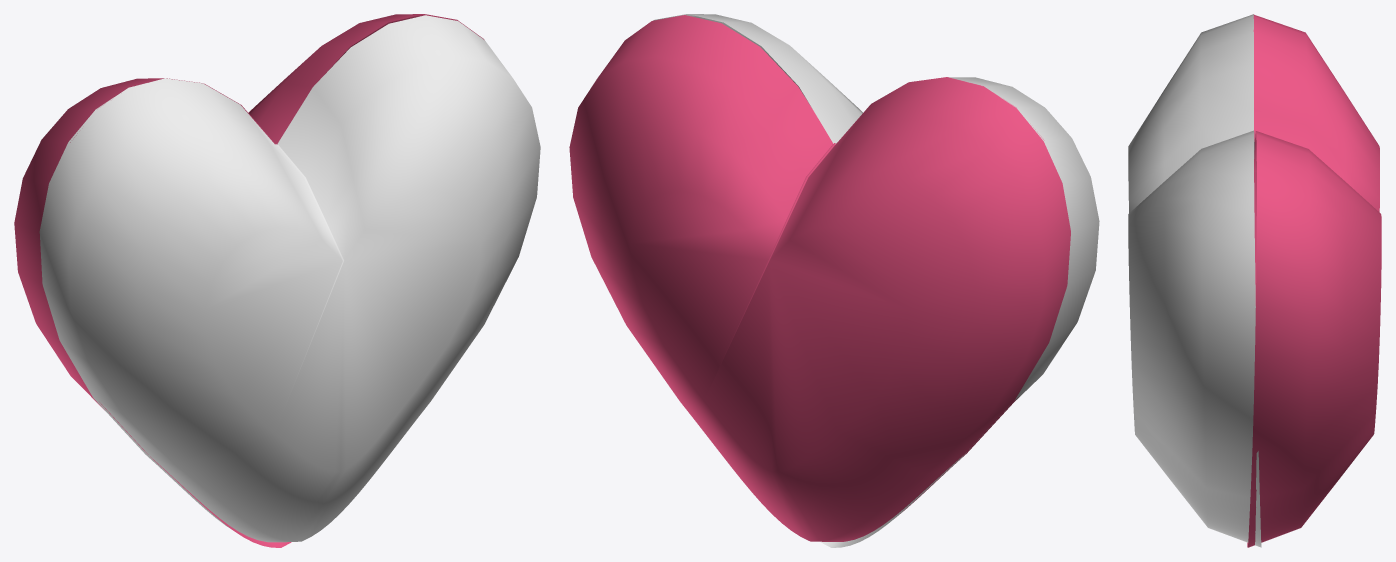
File: Spleunk_altheart2.glb
The picture shows the model from 3 angles, left to right: view 1: azimuth 30°, elevation 25°; view 2: azimuth 150°, elevation 25°; view 3: azimuth 270°, elevation 25°; orthographic projection. The views are drawn at different scales.
Visible parts, largest first — view 1: obj_0.001; view 2: obj_0.001; view 3: obj_0.001.
Boxes of the visible parts, bbox=[...] form: obj_0.001: bbox=[14, 14, 540, 547]; obj_0.001: bbox=[569, 14, 1099, 547]; obj_0.001: bbox=[1128, 14, 1381, 547].
Bounding box in the file's own units: 7.51 × 7.5 × 3.73.
